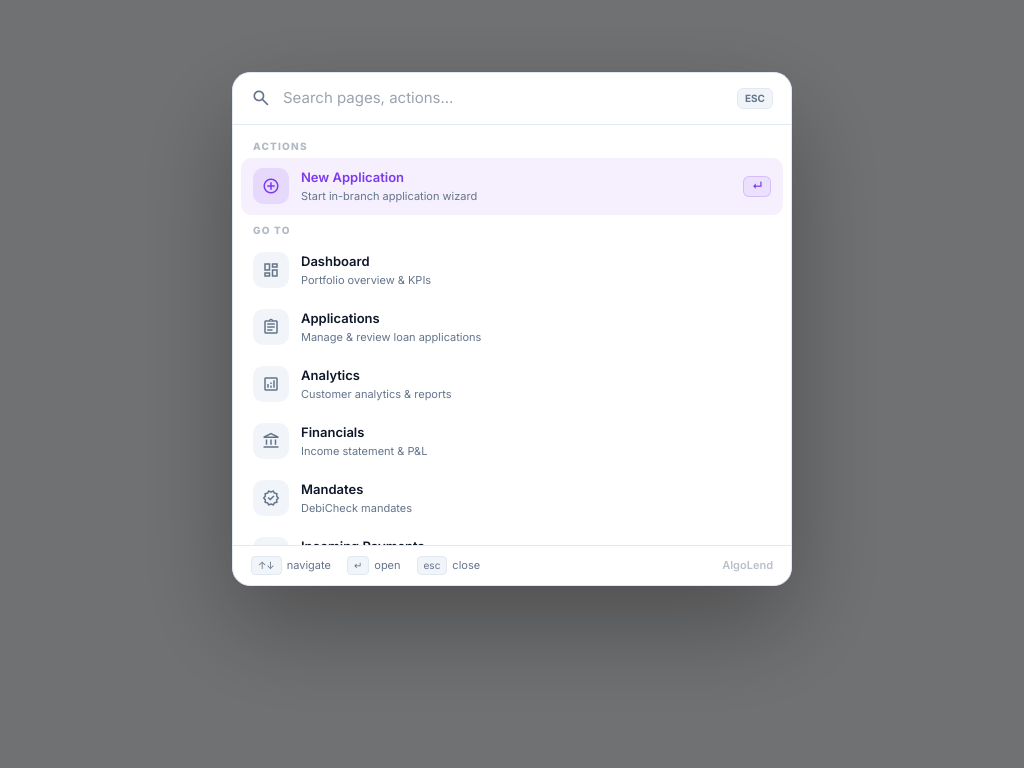
Test: CommandPalette › shows no-results message for unknown query
Type "zzznomatch" into the field with placeholder "Search pages, actions…". click: {"x": 504, "y": 98}
box: [283, 87, 725, 110]
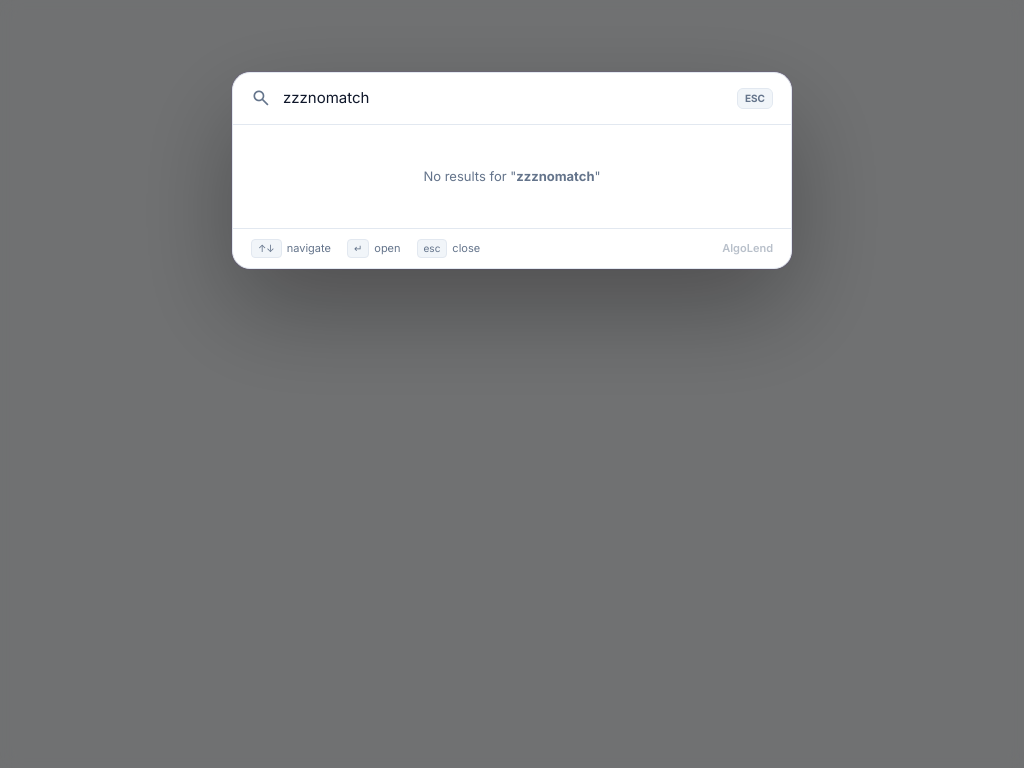
Now the text "No results for \"zzznomatch\"" is shown, box [423, 168, 600, 184]
